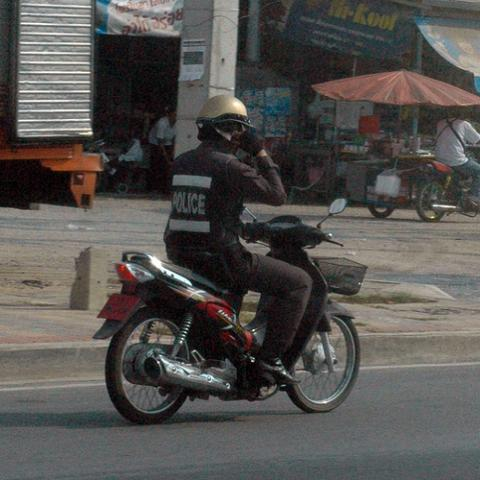motorcycle: (95, 202, 365, 420), (416, 158, 478, 222)
truck: (0, 2, 103, 209)
